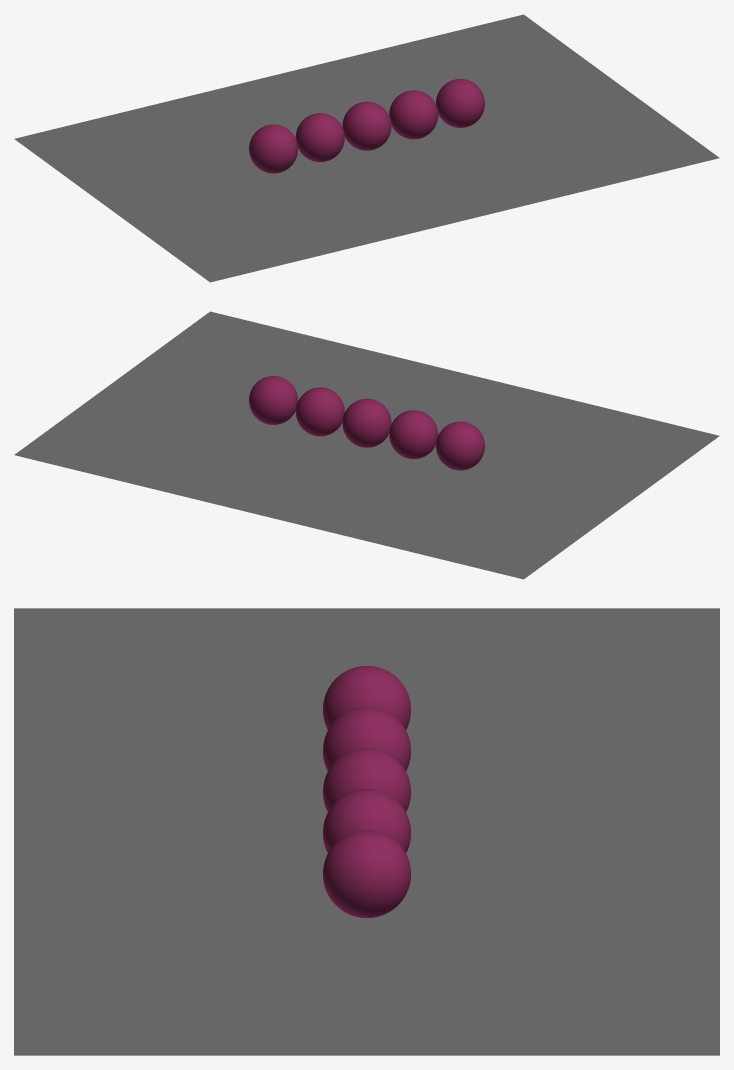
File: sheen_compare.gltf
3 views of the same model, one above another, from view 1: azimuth 30°, elevation 25°; view 2: azimuth 150°, elevation 25°; view 3: azimuth 270°, elevation 25° (orthographic). The views are drawn at different scales.
Bounding box in the file's own units: 24 × 2 × 16.
